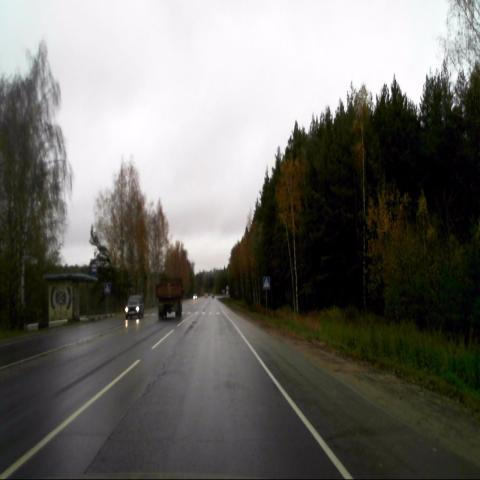5_16: (91, 262, 97, 275)
5_19_1: (262, 276, 270, 290), (104, 281, 110, 293)
